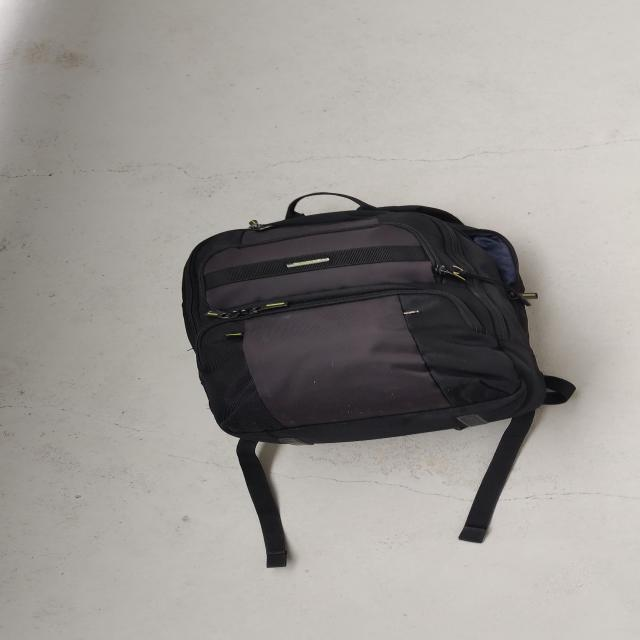backpack: (166, 185, 563, 456)
